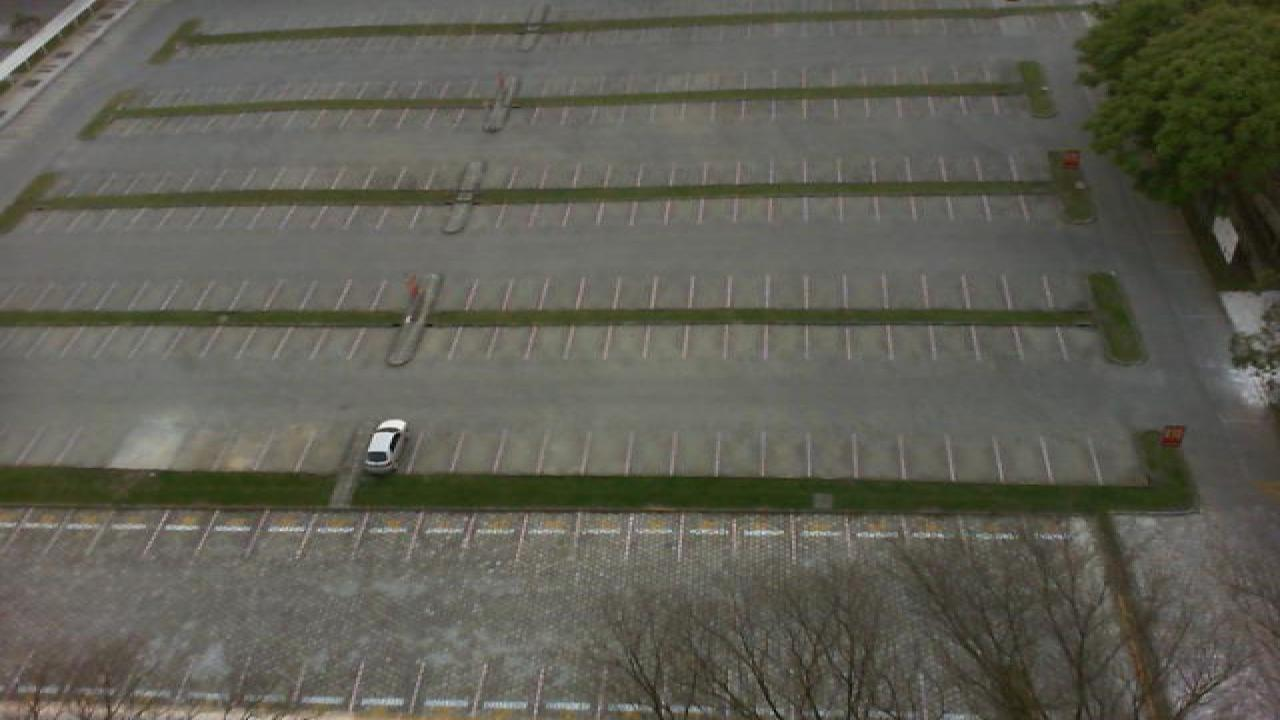Car: (360, 417, 410, 475)
